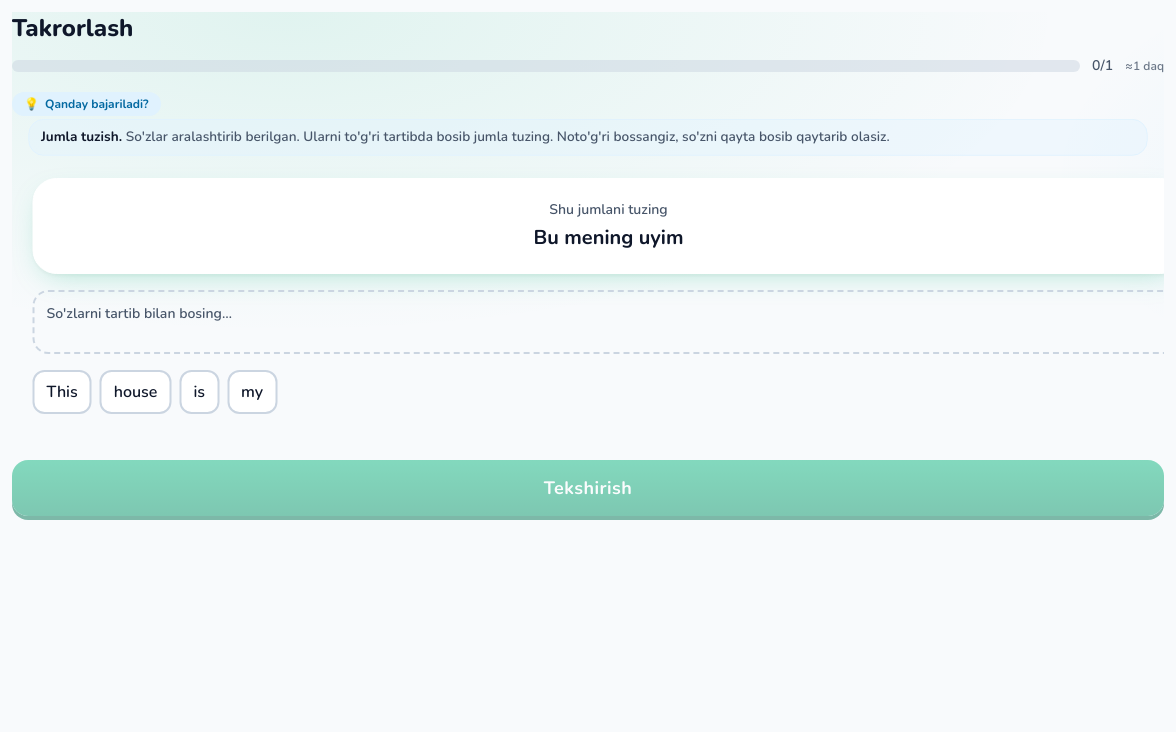
Test: ReviewScreen — jumla qurish mashqi › sozlarni tartib bilan tanlab jumla tuziladi
The image size is (1176, 732).
Expected: the text "Shu jumlani tuzing" is shown, [549,200,668,220]
Click the button "This": click(62, 392) [32,370,92,414]
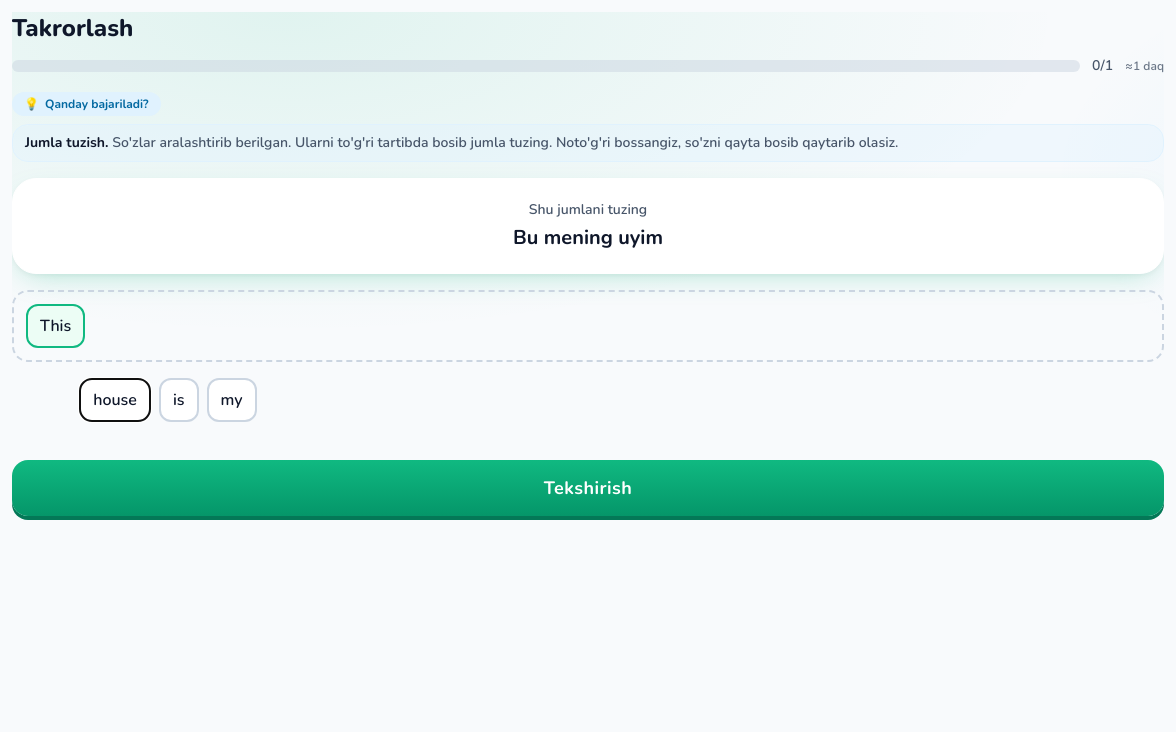
Click the button "is": click(179, 400) [159,378,199,422]
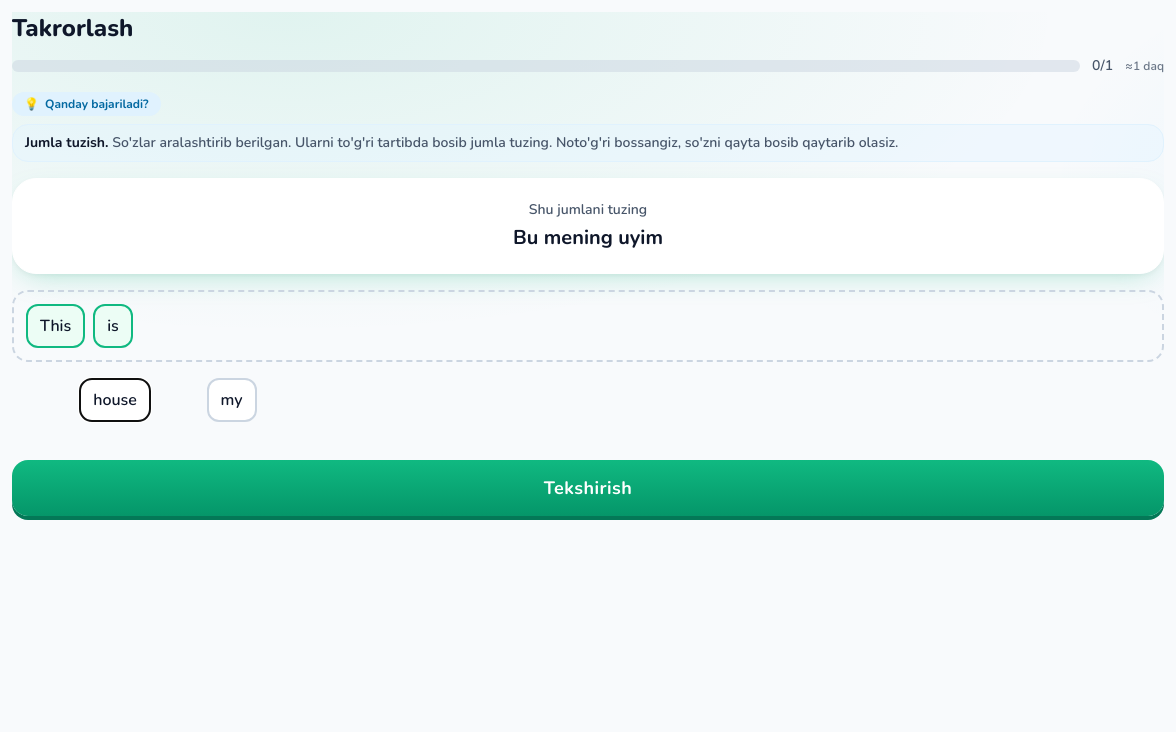
Click the button "my": click(232, 400) [207,378,257,422]
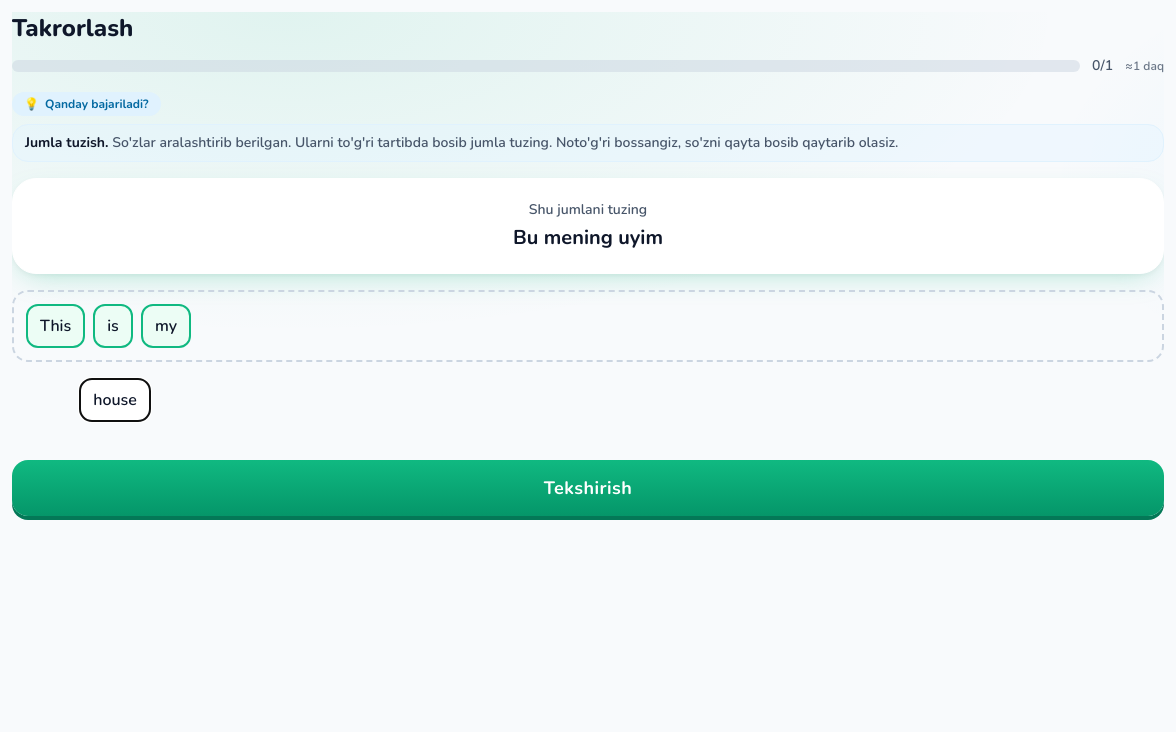
Click the button "house": click(115, 400) [79,378,151,422]
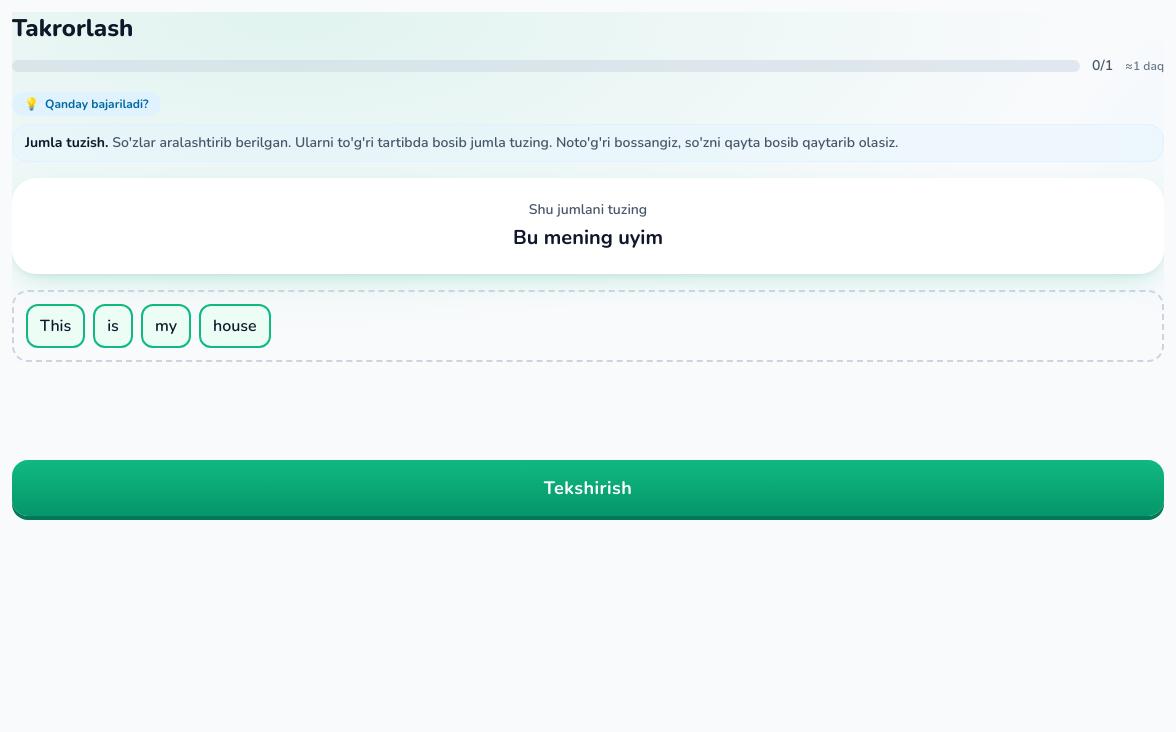
Click the button "Tekshirish": click(588, 488) [12,460,1164,516]
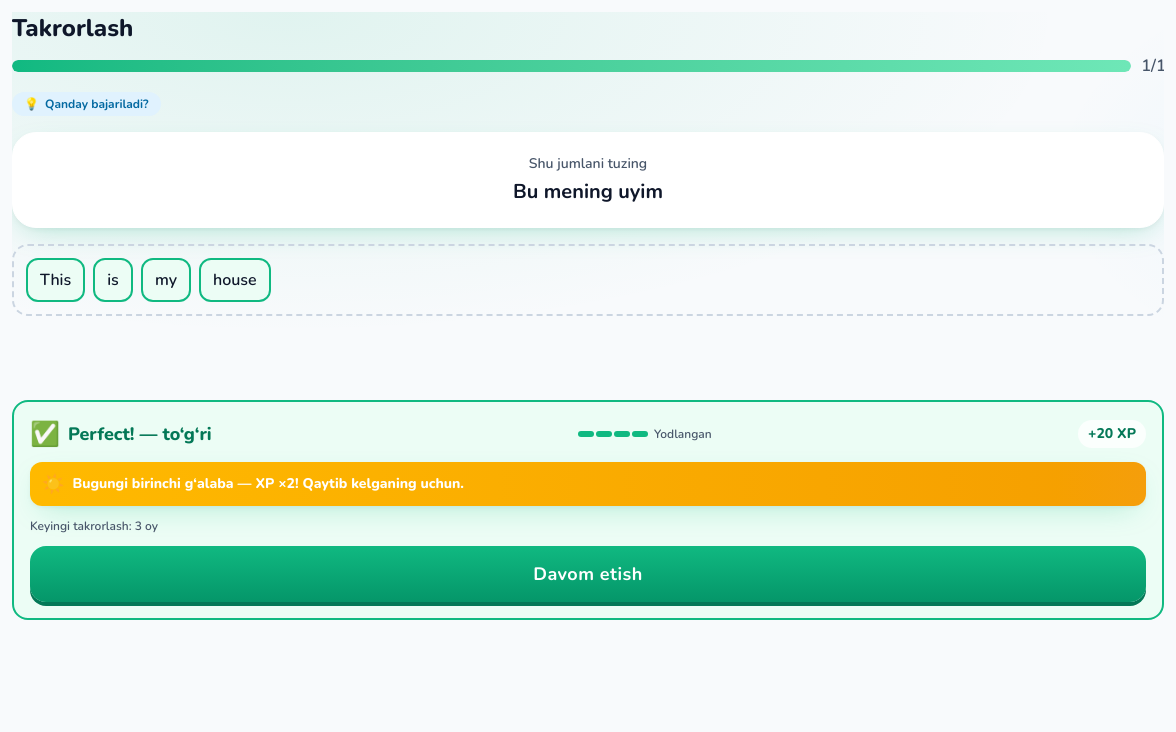
Expected: the text "Perfect! — to‘g‘ri" is shown, [68,420,212,448]
